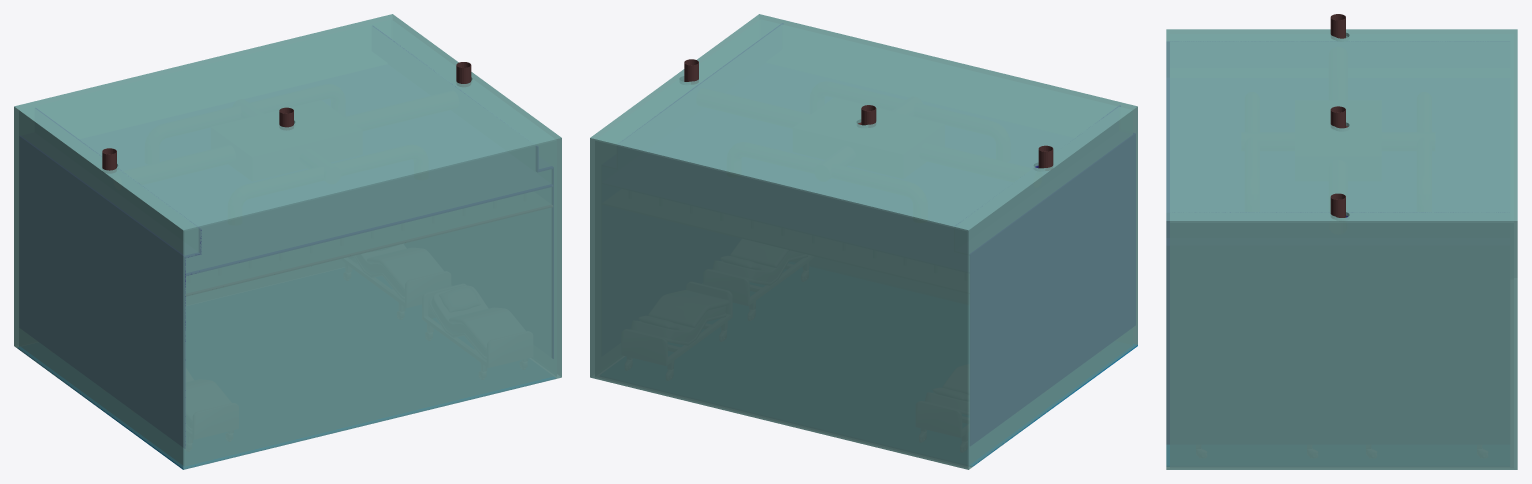
The model's file is duct-system.obj.
The picture shows the model from 3 angles, left to right: view 1: azimuth 30°, elevation 25°; view 2: azimuth 150°, elevation 25°; view 3: azimuth 270°, elevation 25°; orthographic projection. The views are drawn at different scales.
Visible parts, largest first — view 1: box, ventwalls, floor, pipes, ventceil; view 2: box, ventwalls, pipes, floor; view 3: box, ventwalls, pipes.
Boxes of the visible parts, x1=… form: box: x1=14, y1=14, x2=561, y2=469; ventwalls: x1=20, y1=26, x2=553, y2=447; floor: x1=18, y1=347, x2=555, y2=469; pipes: x1=102, y1=62, x2=471, y2=172; ventceil: x1=186, y1=205, x2=552, y2=295; box: x1=590, y1=14, x2=1137, y2=469; ventwalls: x1=670, y1=23, x2=1135, y2=445; pipes: x1=684, y1=59, x2=1053, y2=170; floor: x1=970, y1=344, x2=1137, y2=466; box: x1=1166, y1=29, x2=1517, y2=469; ventwalls: x1=1167, y1=42, x2=1347, y2=443; pipes: x1=1330, y1=14, x2=1348, y2=218.
Size of the model in its own units: 624 by 403 by 483.
